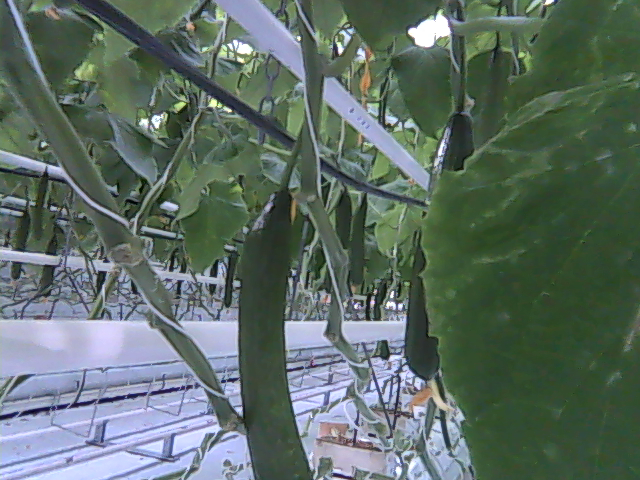concombre: (237, 184, 318, 480), (402, 104, 478, 408)
